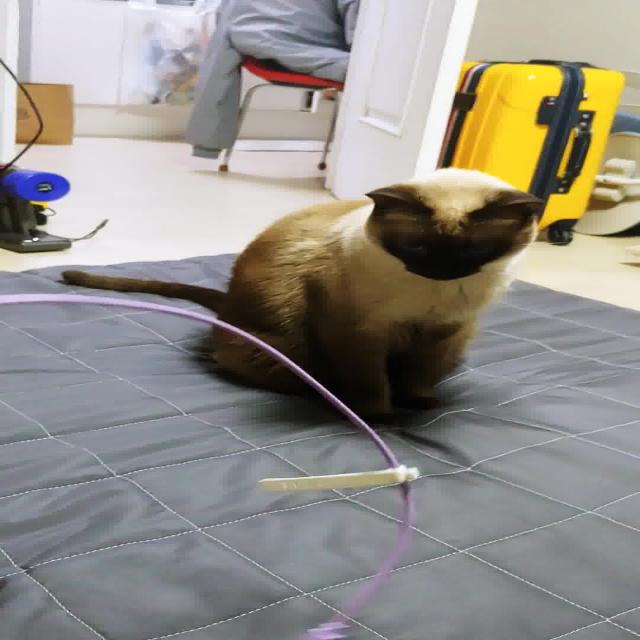cat: (53, 158, 545, 436)
